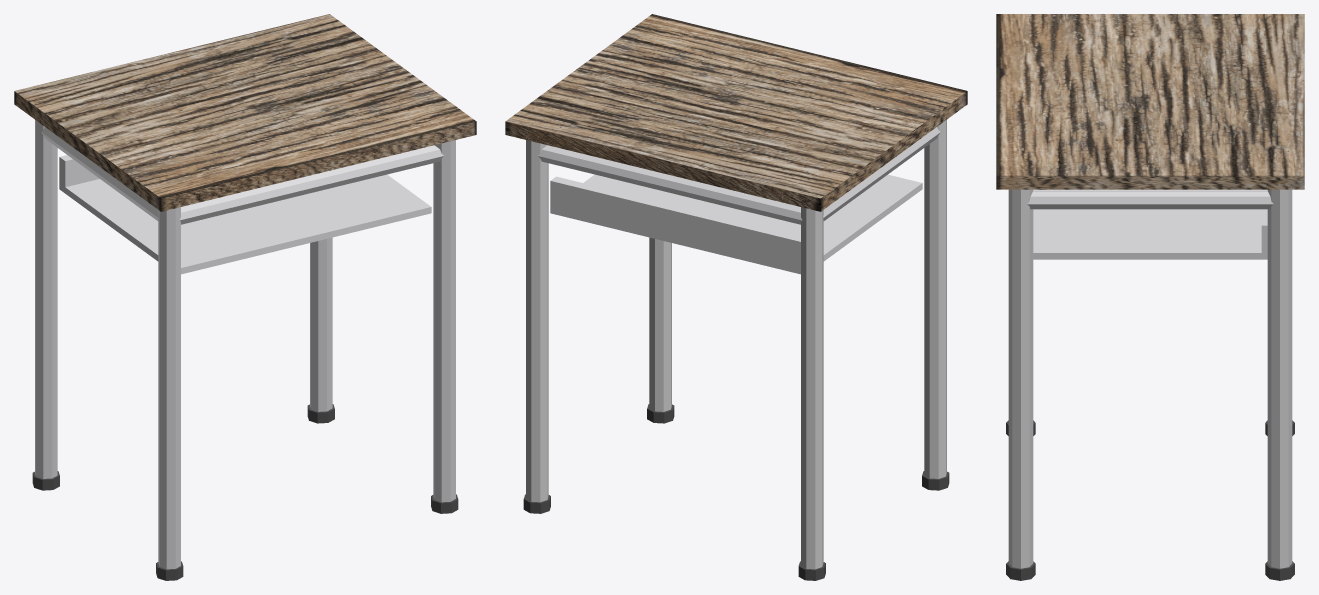
File: Pupitre.fbx
3 renders of one model, left to right at view 1: azimuth 30°, elevation 25°; view 2: azimuth 150°, elevation 25°; view 3: azimuth 270°, elevation 25°, orthographic. The views are drawn at different scales.
Visible parts, largest first — view 1: Pupitre; view 2: Pupitre; view 3: Pupitre.
Boxes of the visible parts, x1,y1,x2,y2 form: Pupitre: (14,14,476,580); Pupitre: (505,14,967,580); Pupitre: (996,14,1304,580).
Bounding box in the file's own units: 62 × 73.25 × 50.
4 materials, 1 textured.
